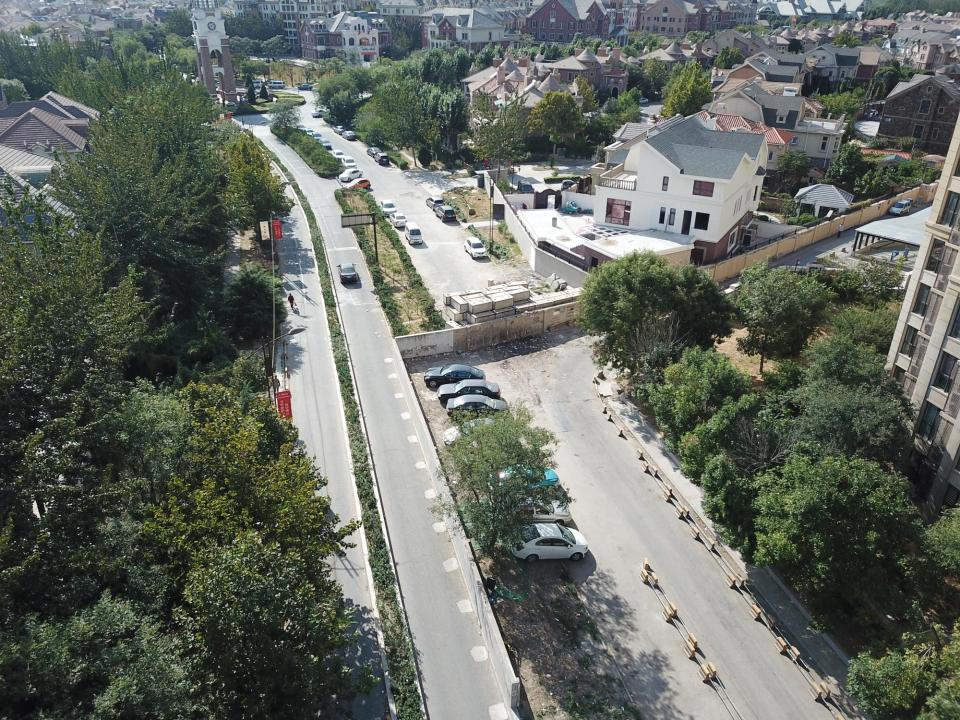car: (511, 522, 588, 564), (498, 494, 571, 528), (487, 464, 559, 496), (457, 436, 522, 468), (442, 417, 508, 448), (436, 379, 500, 404), (446, 395, 509, 420), (423, 364, 486, 388), (336, 263, 358, 283), (339, 168, 363, 183), (389, 213, 407, 227), (342, 156, 356, 170), (366, 148, 383, 158), (332, 149, 344, 161), (304, 128, 316, 139), (341, 131, 356, 139), (293, 124, 307, 132), (312, 109, 326, 117), (333, 126, 346, 134), (634, 97, 648, 104), (864, 109, 877, 116), (298, 84, 313, 90), (170, 64, 179, 70)
van: (464, 237, 487, 258), (405, 222, 423, 244), (345, 178, 371, 192), (435, 205, 456, 222), (889, 200, 911, 216), (517, 179, 535, 197), (425, 196, 444, 210), (380, 199, 396, 215), (374, 152, 390, 164), (245, 80, 263, 88), (318, 138, 331, 149), (267, 81, 285, 88), (311, 132, 322, 141), (213, 82, 226, 88), (189, 72, 195, 78)
